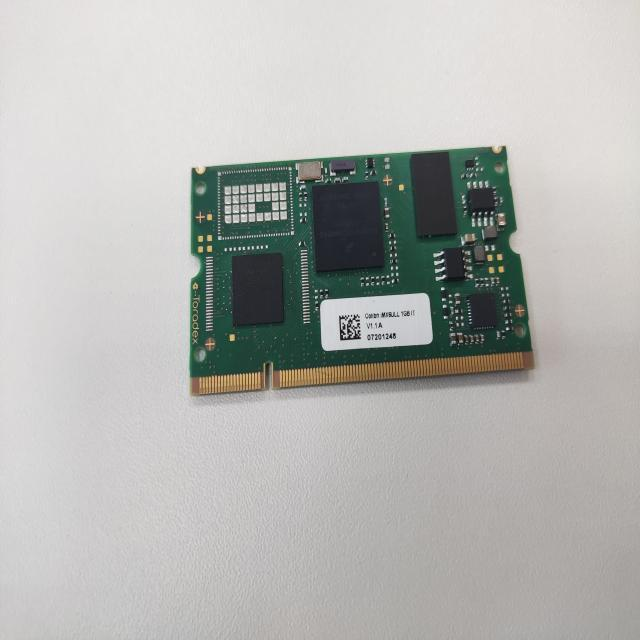som: (175, 145, 558, 406)
